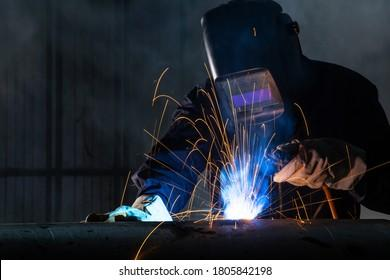gloves: (268, 137, 367, 191), (82, 193, 174, 222)
